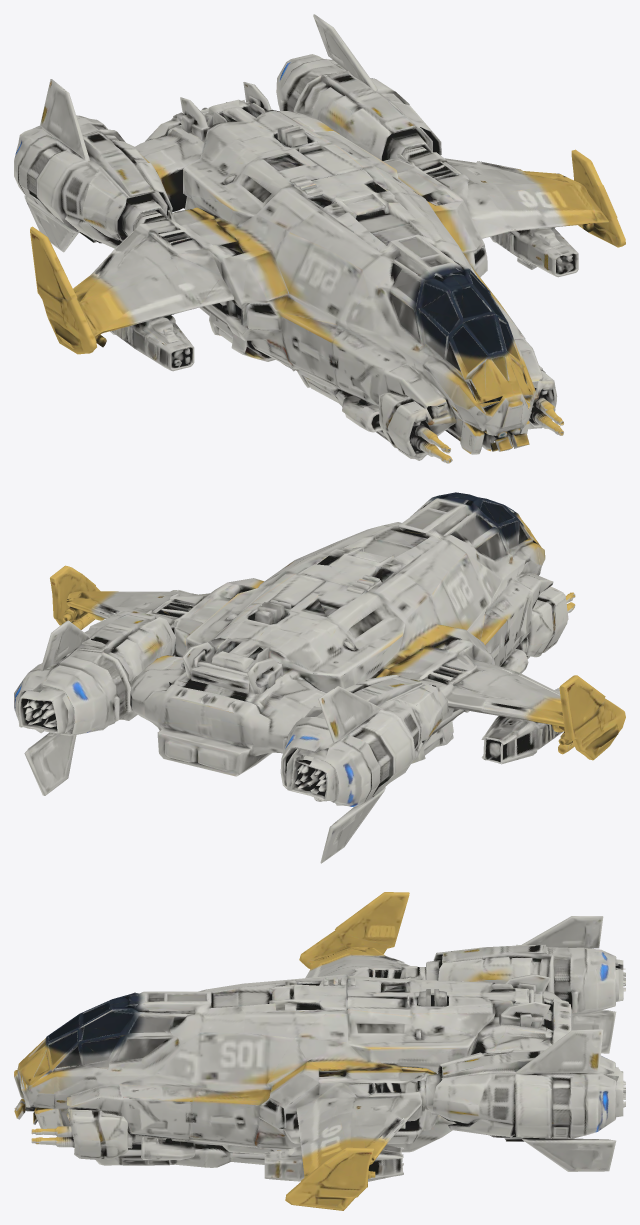
The model's file is europa-starter.glb.
The picture shows the model from 3 angles, top to bottom: view 1: azimuth 30°, elevation 25°; view 2: azimuth 150°, elevation 25°; view 3: azimuth 270°, elevation 25°; orthographic projection. The views are drawn at different scales.
Visible parts, largest first — view 1: Hull_LOD0; view 2: Hull_LOD0; view 3: Hull_LOD0.
Part boxes in pixels (left/top/right/bottom): Hull_LOD0: left=14, top=14, right=625, bottom=463; Hull_LOD0: left=14, top=492, right=625, bottom=863; Hull_LOD0: left=14, top=892, right=625, bottom=1210.
Bounding box in the file's own units: 7.41 × 2.61 × 8.33.
Materials: 1 (1 with a texture image).
